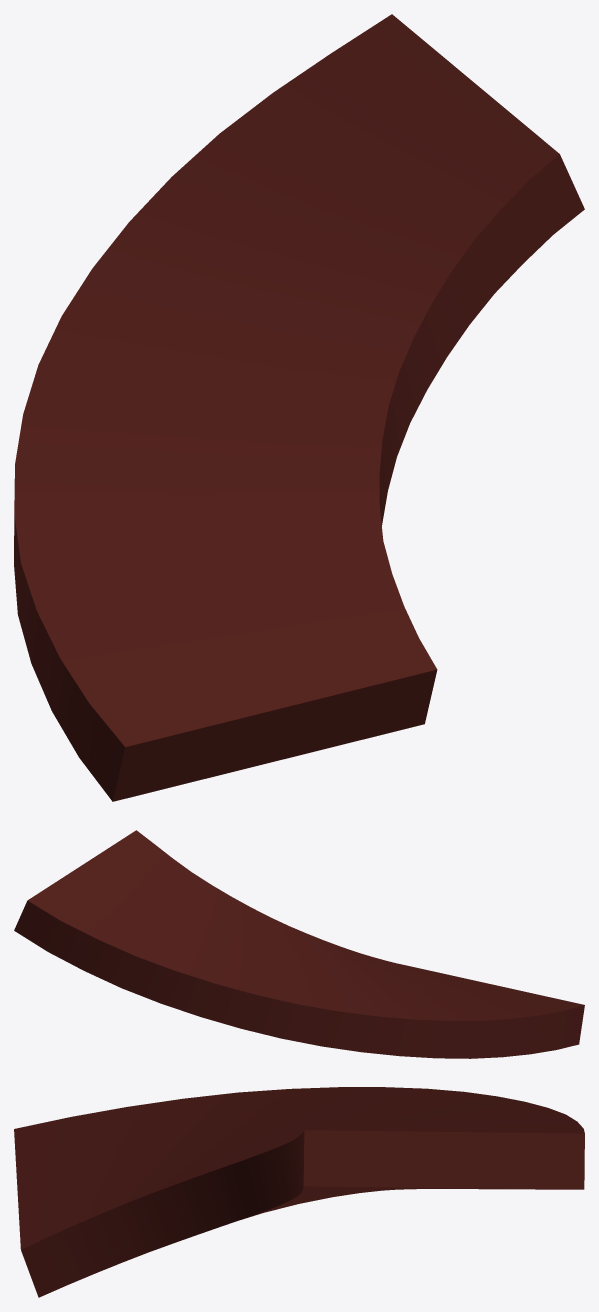
File: vox_road_bendlongtwistright.fbx
The picture shows the model from 3 angles, top to bottom: view 1: azimuth 30°, elevation 25°; view 2: azimuth 150°, elevation 25°; view 3: azimuth 270°, elevation 25°; orthographic projection. The views are drawn at different scales.
Visible parts, largest first — view 1: vox_road_bendlongtwistright; view 2: vox_road_bendlongtwistright; view 3: vox_road_bendlongtwistright.
Part boxes in pixels (left/top/right/bottom): vox_road_bendlongtwistright: left=14, top=14, right=584, bottom=801; vox_road_bendlongtwistright: left=14, top=830, right=584, bottom=1058; vox_road_bendlongtwistright: left=14, top=1087, right=584, bottom=1297.
Bounding box in the file's own units: 134 × 71.68 × 130.
